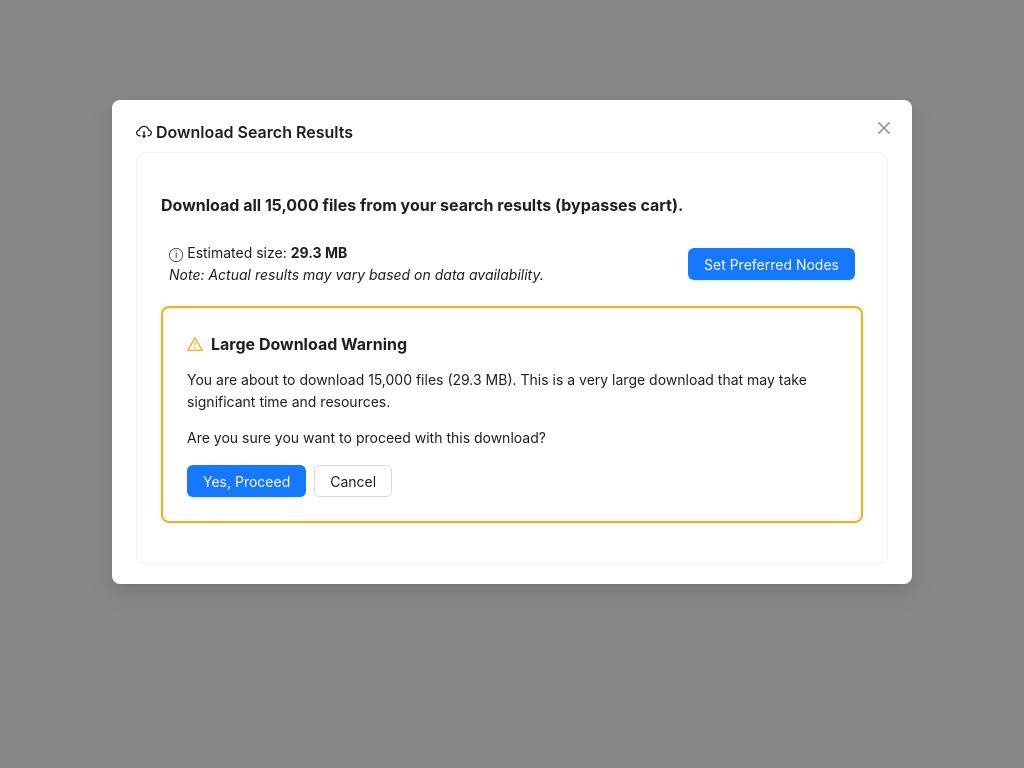
DownloadModal component tests › shows download form after clicking "Yes, Proceed" on warning
The image size is (1024, 768).
Expected: the element with test id "largeDownloadWarning" is shown, [161, 306, 863, 523]
# Click "Yes, Proceed" button
Click the button with test id "proceedButton" at (247, 481), box [187, 465, 306, 497]
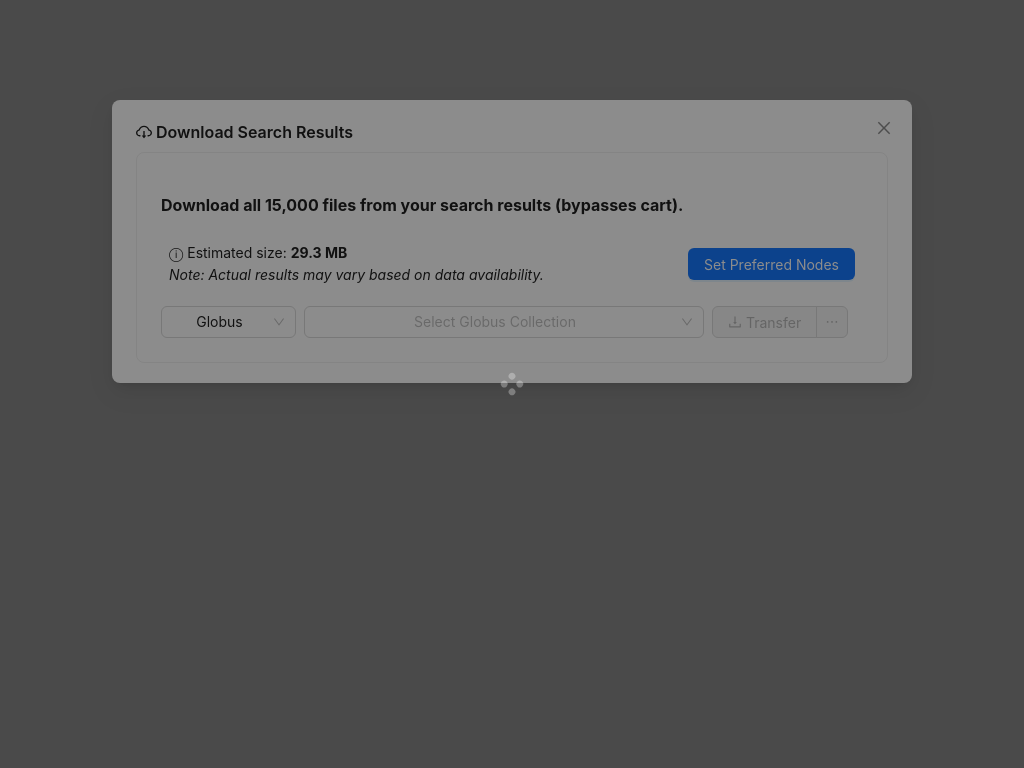
Expected: the element with test id "downloadModalForm" is shown, [136, 152, 888, 363]
Result: the element with test id "largeDownloadWarning" is gone
